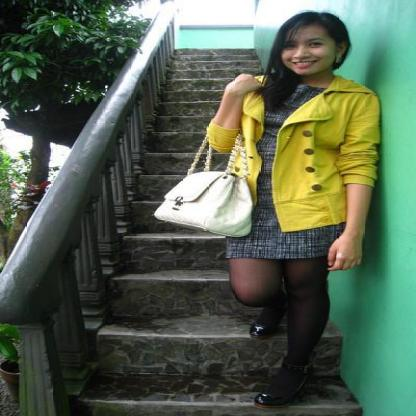bag: (137, 158, 252, 242)
dress: (212, 83, 345, 261)
jacket: (196, 69, 384, 231)
shoe: (246, 312, 306, 406)
